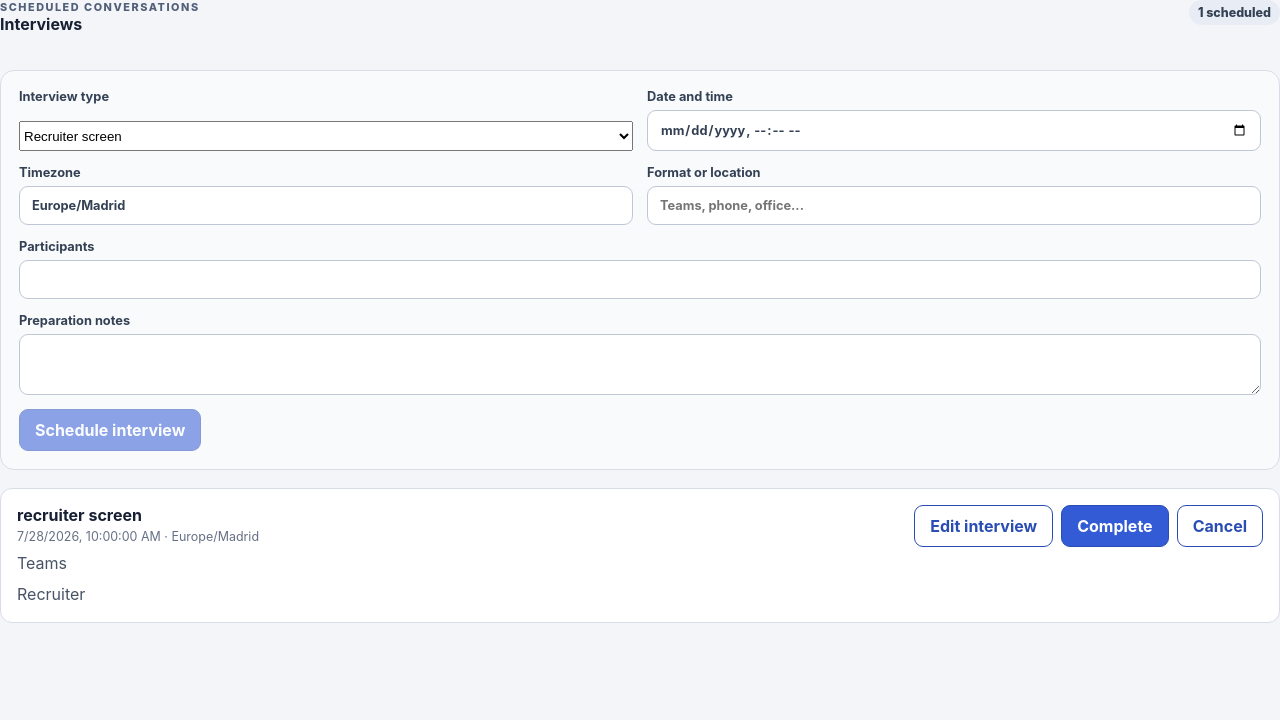
Test: ApplicationInterviews › cancels editing without changing the saved interview
Expected: the text "recruiter screen" is shown, [17,505,142,525]
Click the button "Edit interview" at (984, 526), box [914,505,1053,547]
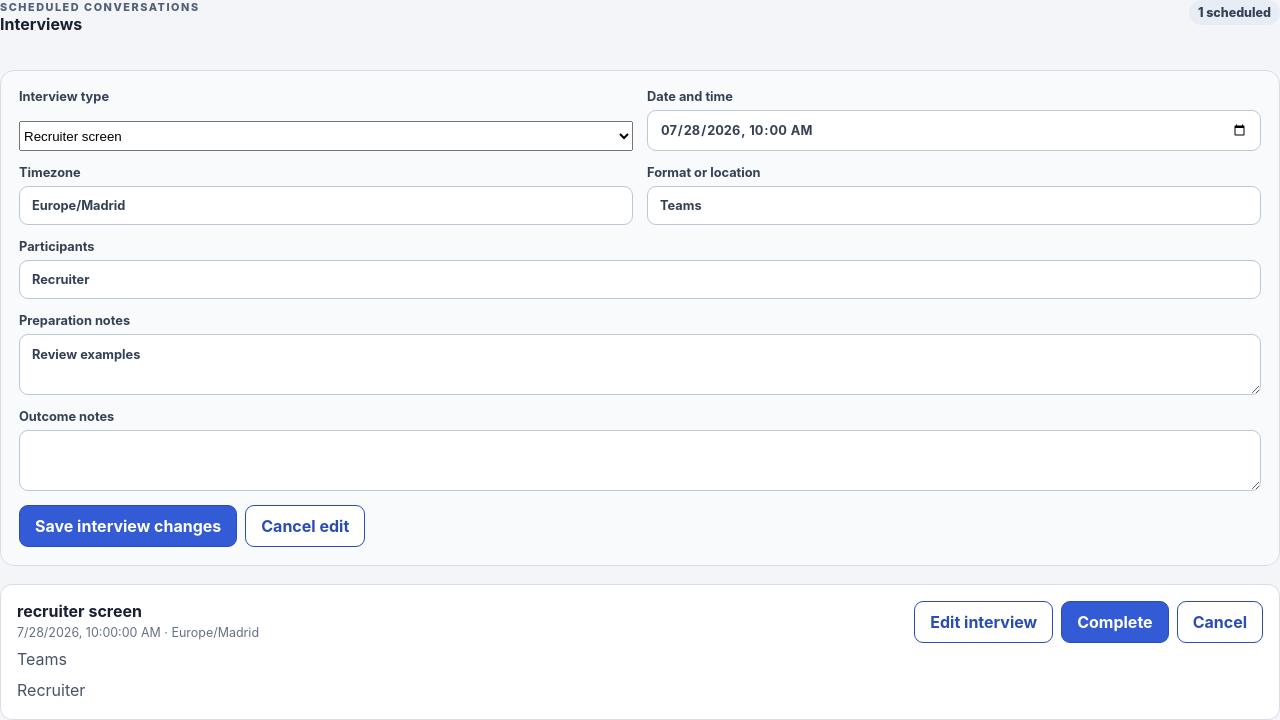
Replace the text in the field labelled "Format or location" with "Local only" at (954, 206), box [647,186,1261,225]
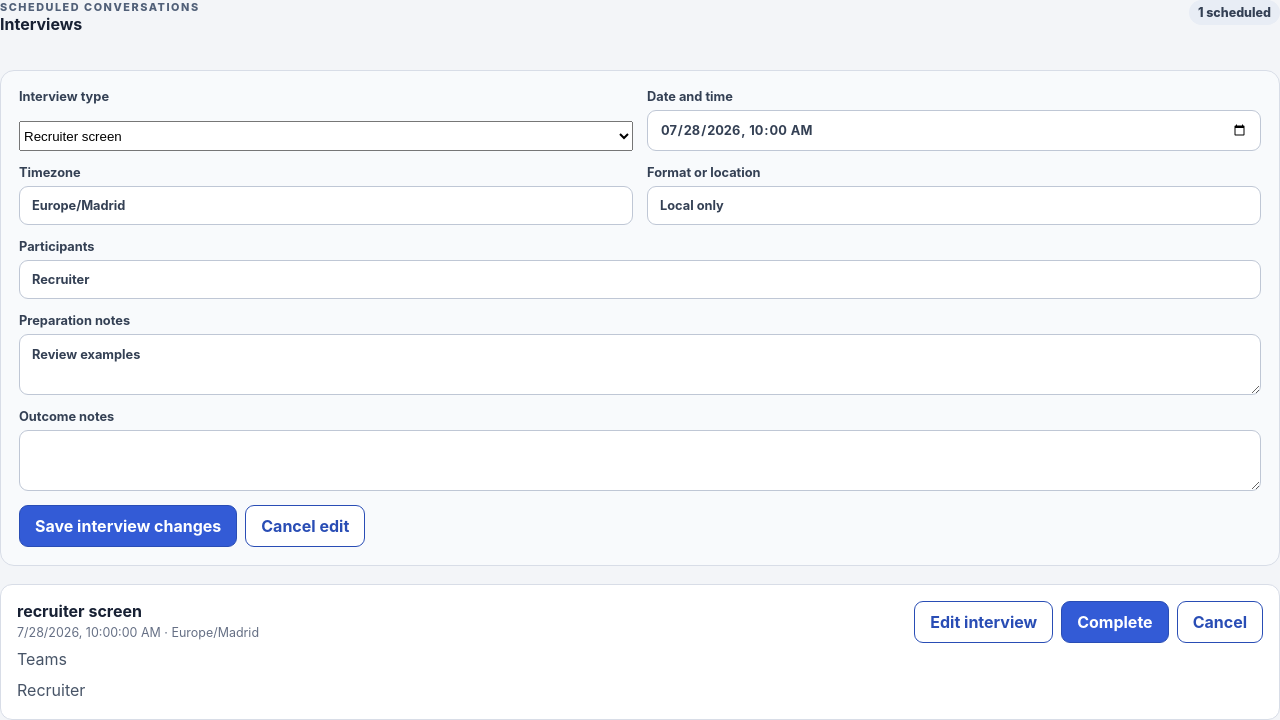
Click the button "Cancel edit" at (305, 526), box [245,505,365,547]
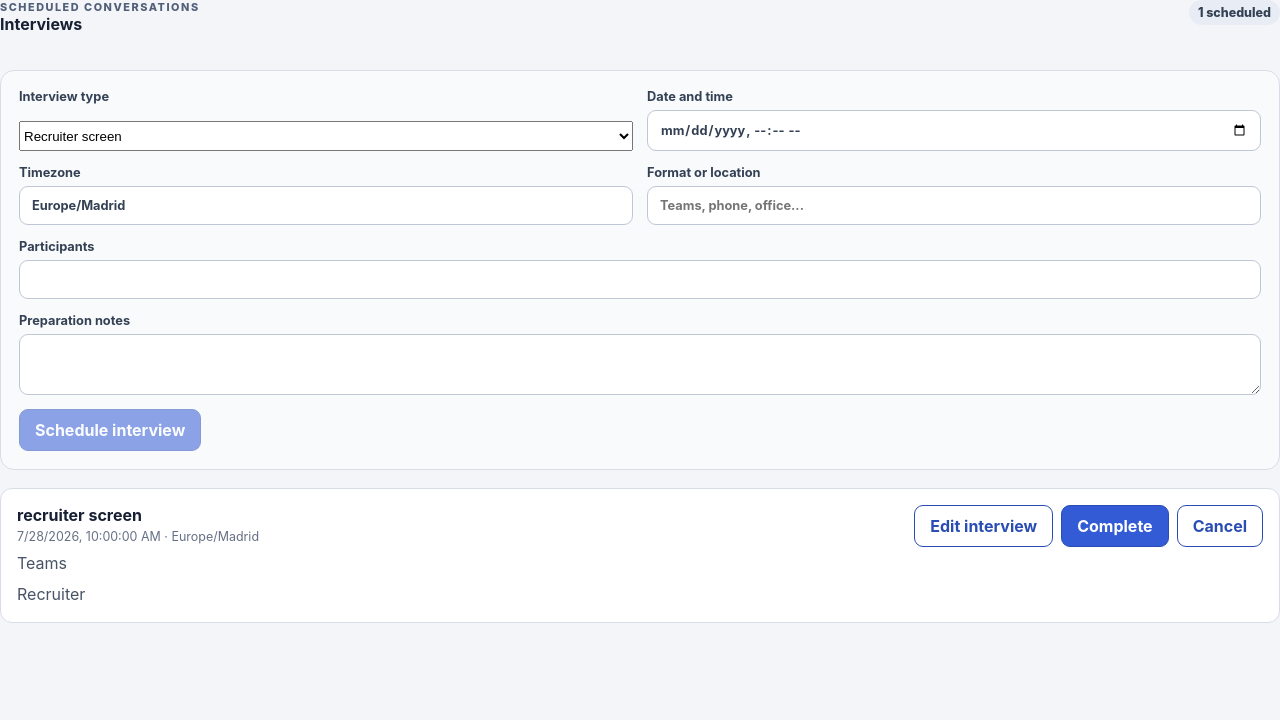
Expected: the text "Teams" is shown, [17,553,67,573]
Result: the field labelled "Format or location" is empty at [647,186,1261,225]
